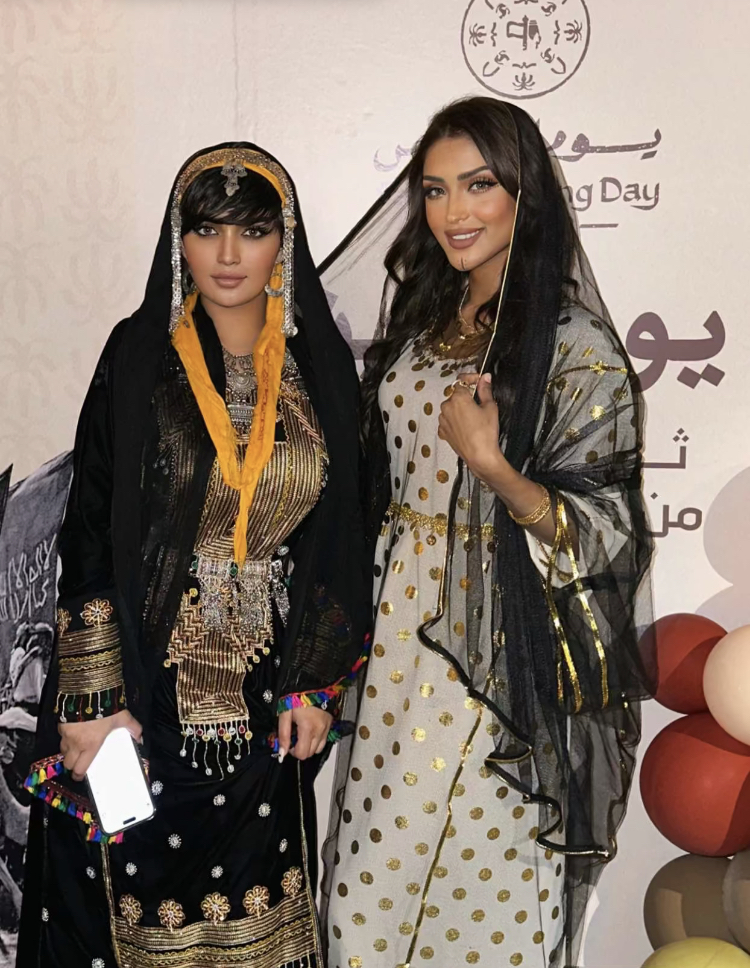Saudi_Founding_Day: (6, 135, 389, 968), (317, 90, 655, 968)
